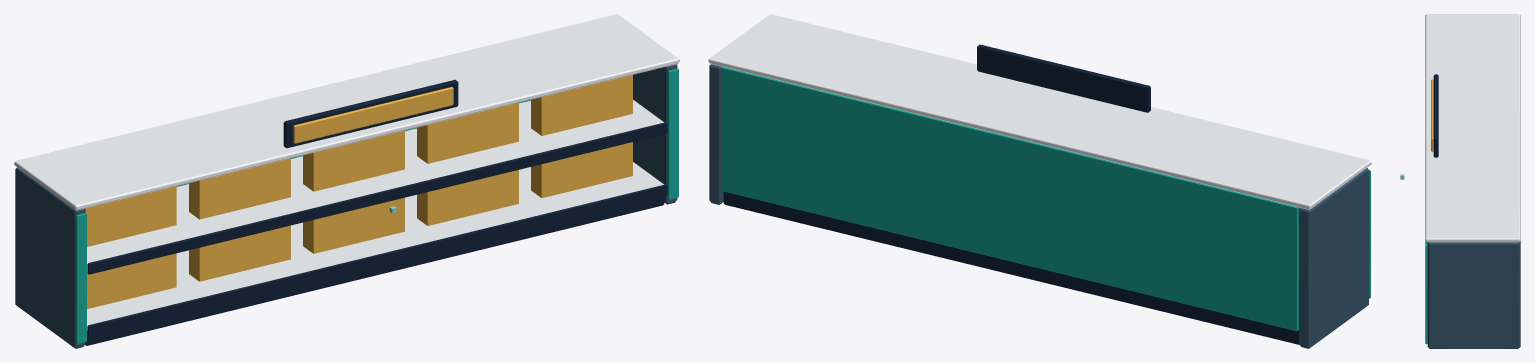
The model's file is CM_Fixture_SnackShelf_Far.fbx.
The picture shows the model from 3 angles, left to right: view 1: azimuth 30°, elevation 25°; view 2: azimuth 150°, elevation 25°; view 3: azimuth 270°, elevation 25°; orthographic projection. The views are drawn at different scales.
Visible parts, largest first — view 1: Body; view 2: Body; view 3: Body.
Boxes of the visible parts, x1=… form: Body: x1=14, y1=14, x2=679, y2=348; Body: x1=708, y1=14, x2=1371, y2=348; Body: x1=1425, y1=14, x2=1520, y2=348.
Bounding box in the file's own units: 28 × 6.3 × 7.6.
1 material, 1 textured.
